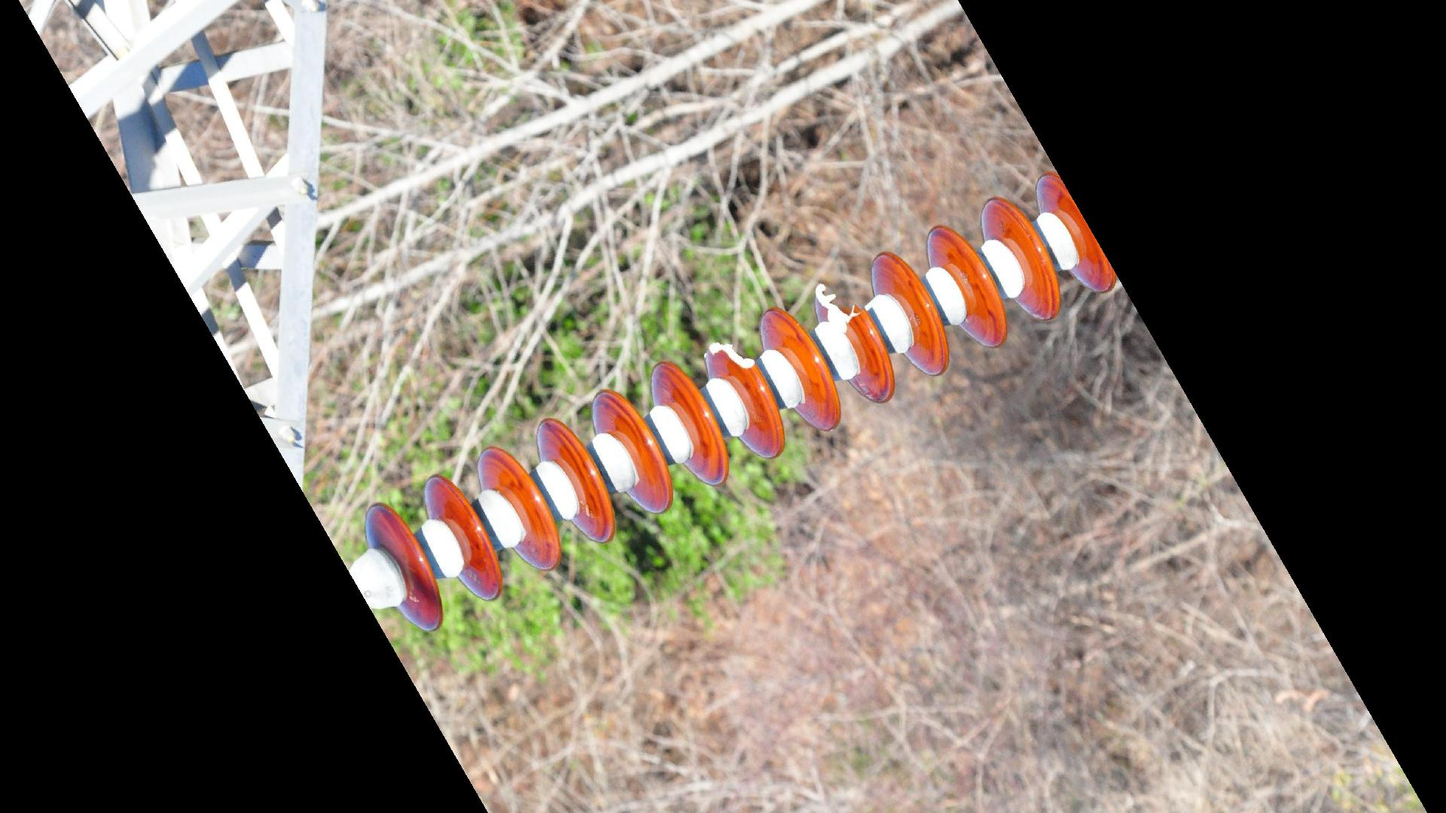insulator: (360, 166, 1124, 636)
insulator_breakage: (806, 279, 868, 333), (698, 336, 761, 378)
